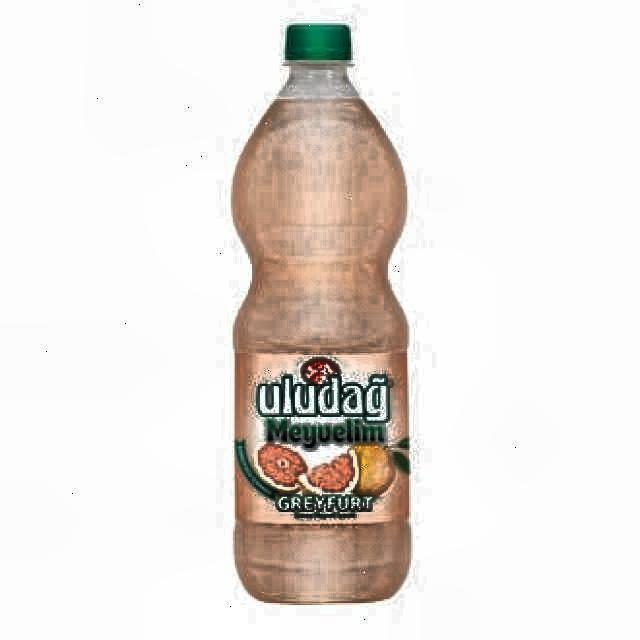plastic: (231, 23, 415, 608)
